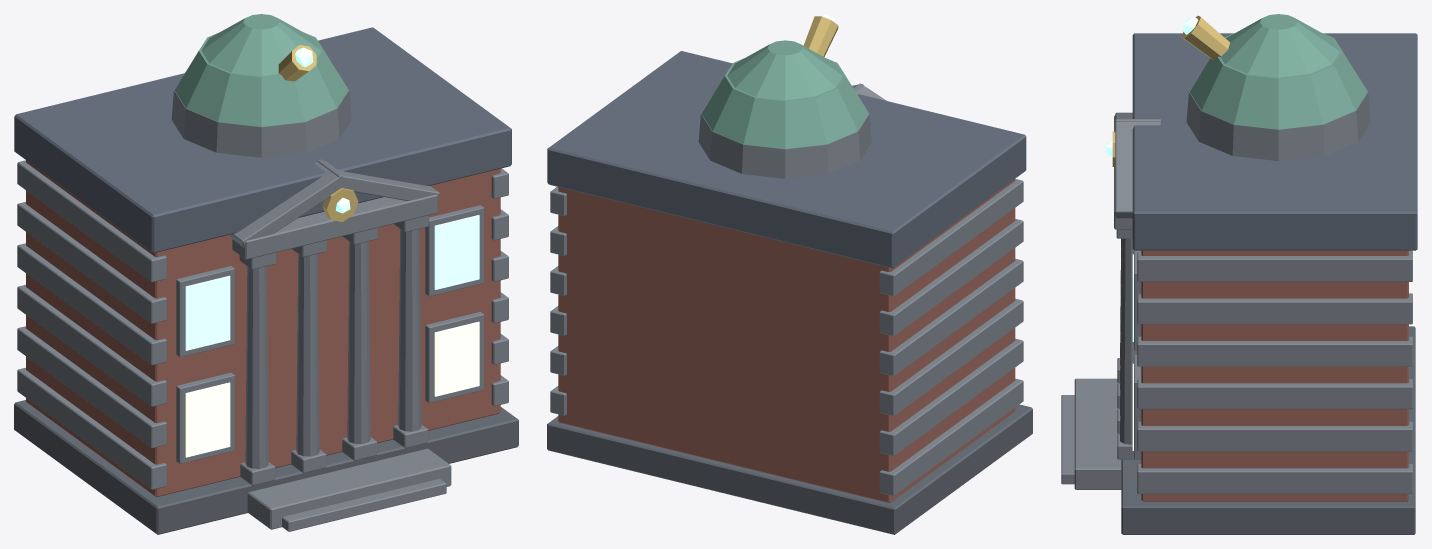
Rendered from outdoor_university.glb.
The picture shows the model from 3 angles, left to right: view 1: azimuth 30°, elevation 25°; view 2: azimuth 150°, elevation 25°; view 3: azimuth 270°, elevation 25°; orthographic projection. The views are drawn at different scales.
Parts seen in each view (by area): view 1: Outdoor_University; view 2: Outdoor_University; view 3: Outdoor_University.
Part boxes in pixels (bbox=[...]): Outdoor_University: bbox=[14, 14, 518, 534]; Outdoor_University: bbox=[547, 14, 1032, 534]; Outdoor_University: bbox=[1061, 14, 1417, 534].
Bounding box in the file's own units: 11.52 × 12.71 × 9.59.
